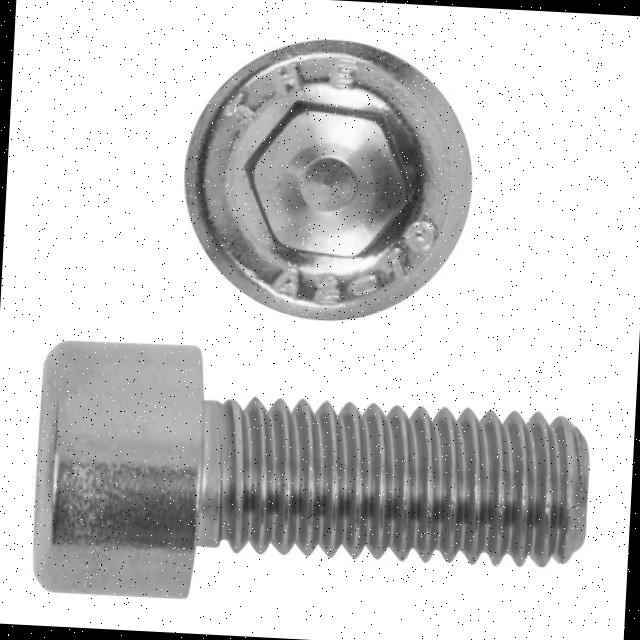Hex Socket Allen: (178, 32, 476, 325)
